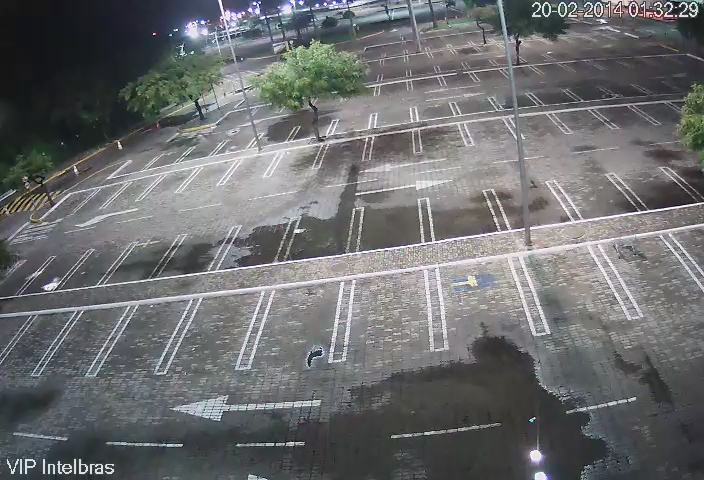lot: (428, 247, 534, 345), (590, 231, 704, 314), (341, 264, 442, 354), (259, 281, 349, 364), (519, 248, 622, 317), (197, 292, 255, 374), (121, 295, 178, 378), (550, 174, 646, 221), (617, 167, 702, 217), (488, 182, 579, 228), (356, 203, 428, 255), (425, 196, 507, 240), (71, 305, 120, 374), (19, 309, 67, 379), (292, 213, 357, 261), (167, 230, 224, 276), (226, 221, 284, 266), (118, 235, 169, 284), (75, 240, 119, 294), (589, 103, 652, 135), (550, 108, 615, 138), (507, 112, 568, 142), (416, 124, 469, 158), (368, 132, 419, 164), (272, 145, 321, 177), (461, 120, 518, 147), (632, 98, 682, 128), (40, 247, 72, 293), (231, 156, 276, 187), (7, 258, 38, 302), (568, 81, 622, 105), (321, 138, 367, 165), (49, 190, 88, 219), (530, 86, 583, 107), (607, 78, 653, 102), (118, 177, 156, 206), (451, 94, 496, 118), (492, 88, 541, 110), (189, 168, 230, 194), (153, 170, 189, 199), (87, 180, 118, 213), (374, 105, 414, 128), (639, 72, 677, 96), (218, 132, 258, 154), (503, 64, 540, 86), (413, 103, 458, 121), (472, 65, 509, 86), (335, 115, 373, 134), (256, 127, 292, 146), (294, 121, 330, 140), (154, 151, 187, 170), (408, 76, 441, 94), (562, 59, 601, 74), (221, 109, 253, 126), (251, 103, 284, 119), (441, 73, 477, 87), (128, 155, 151, 176), (534, 62, 571, 75), (374, 83, 409, 96), (188, 142, 216, 158)
